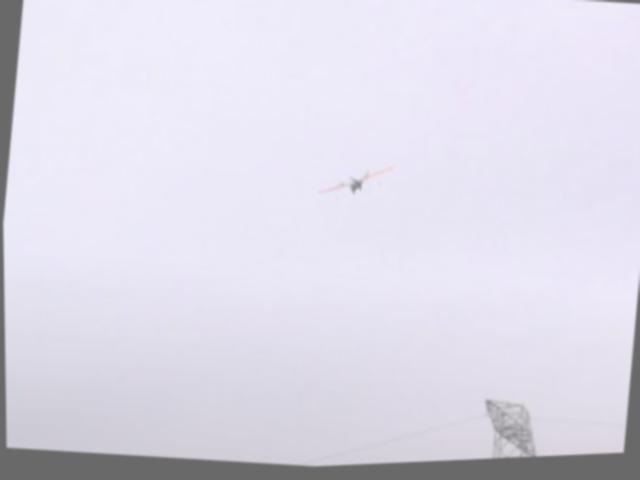iha: (318, 162, 398, 208)
